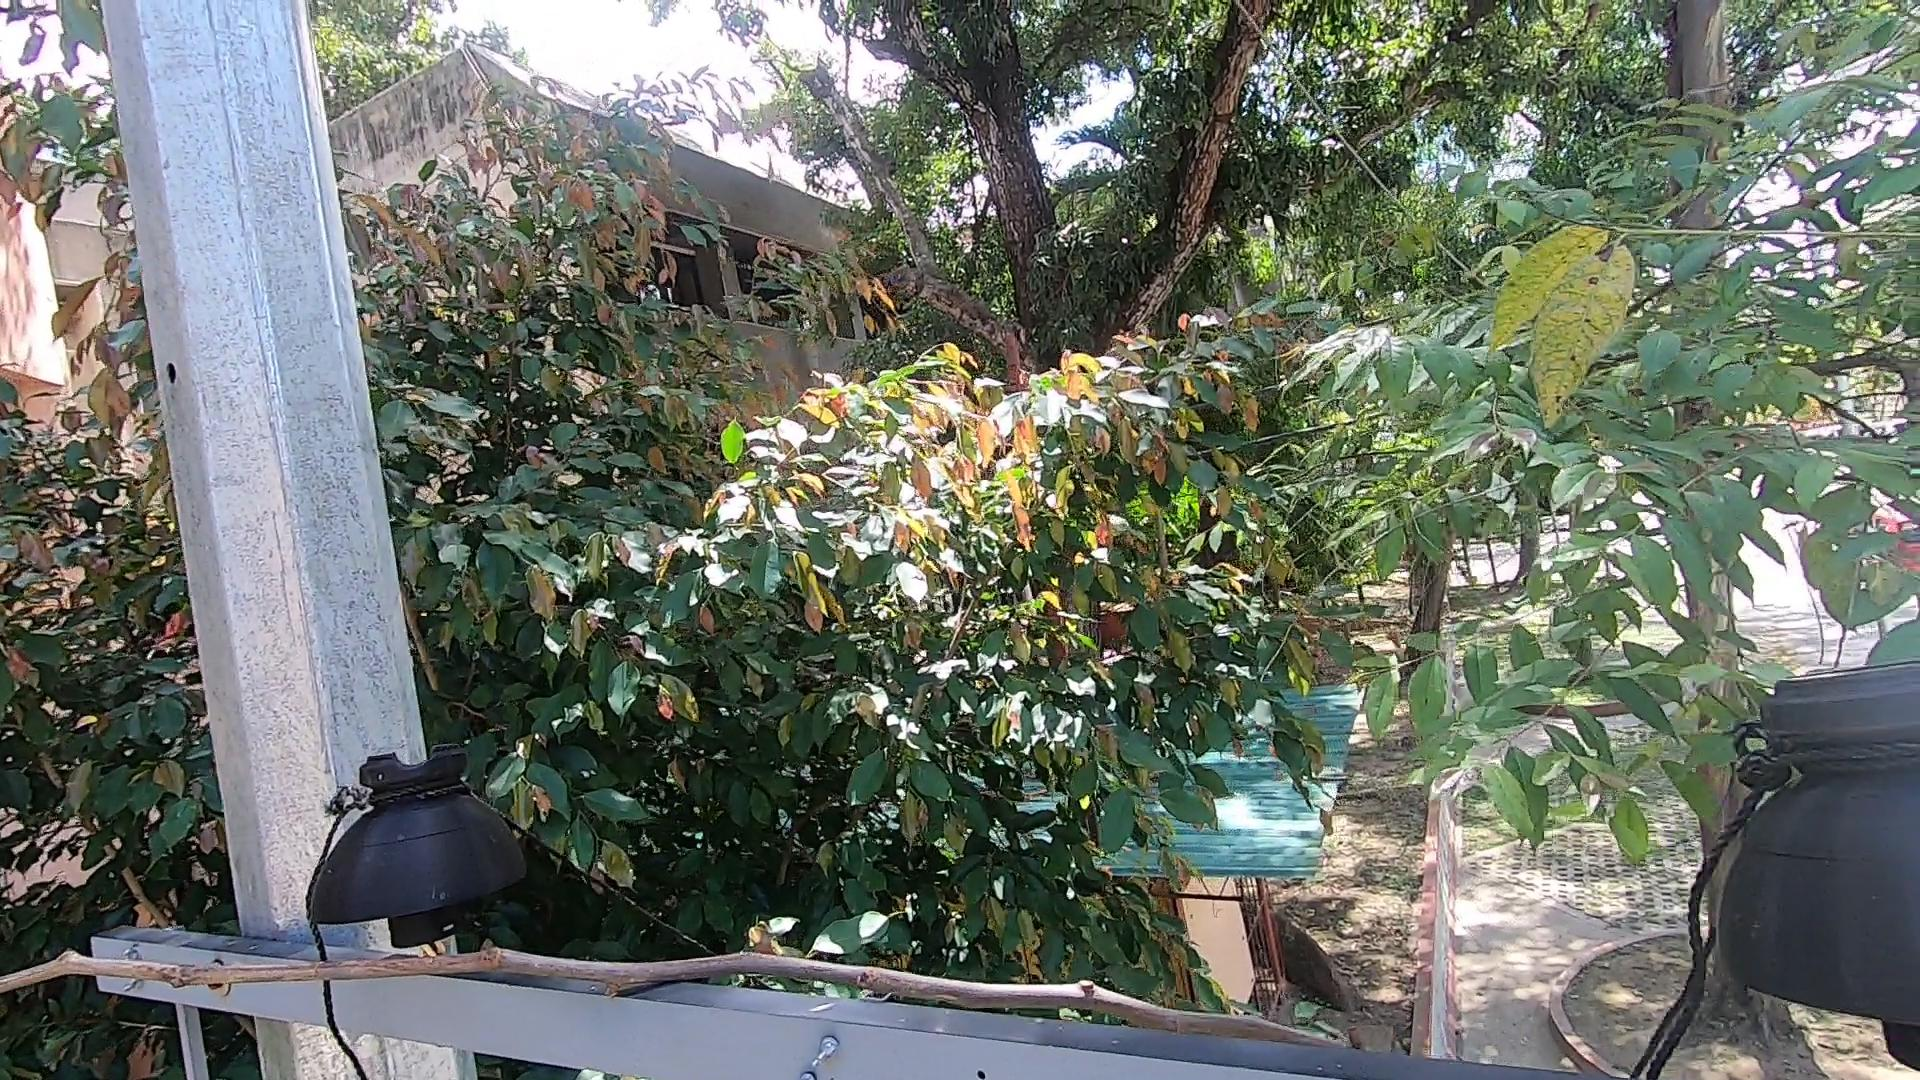tree branch: (1, 932, 1390, 1030)
